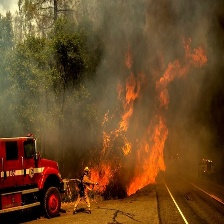fire: (88, 58, 174, 195)
smoke: (164, 2, 224, 146)
